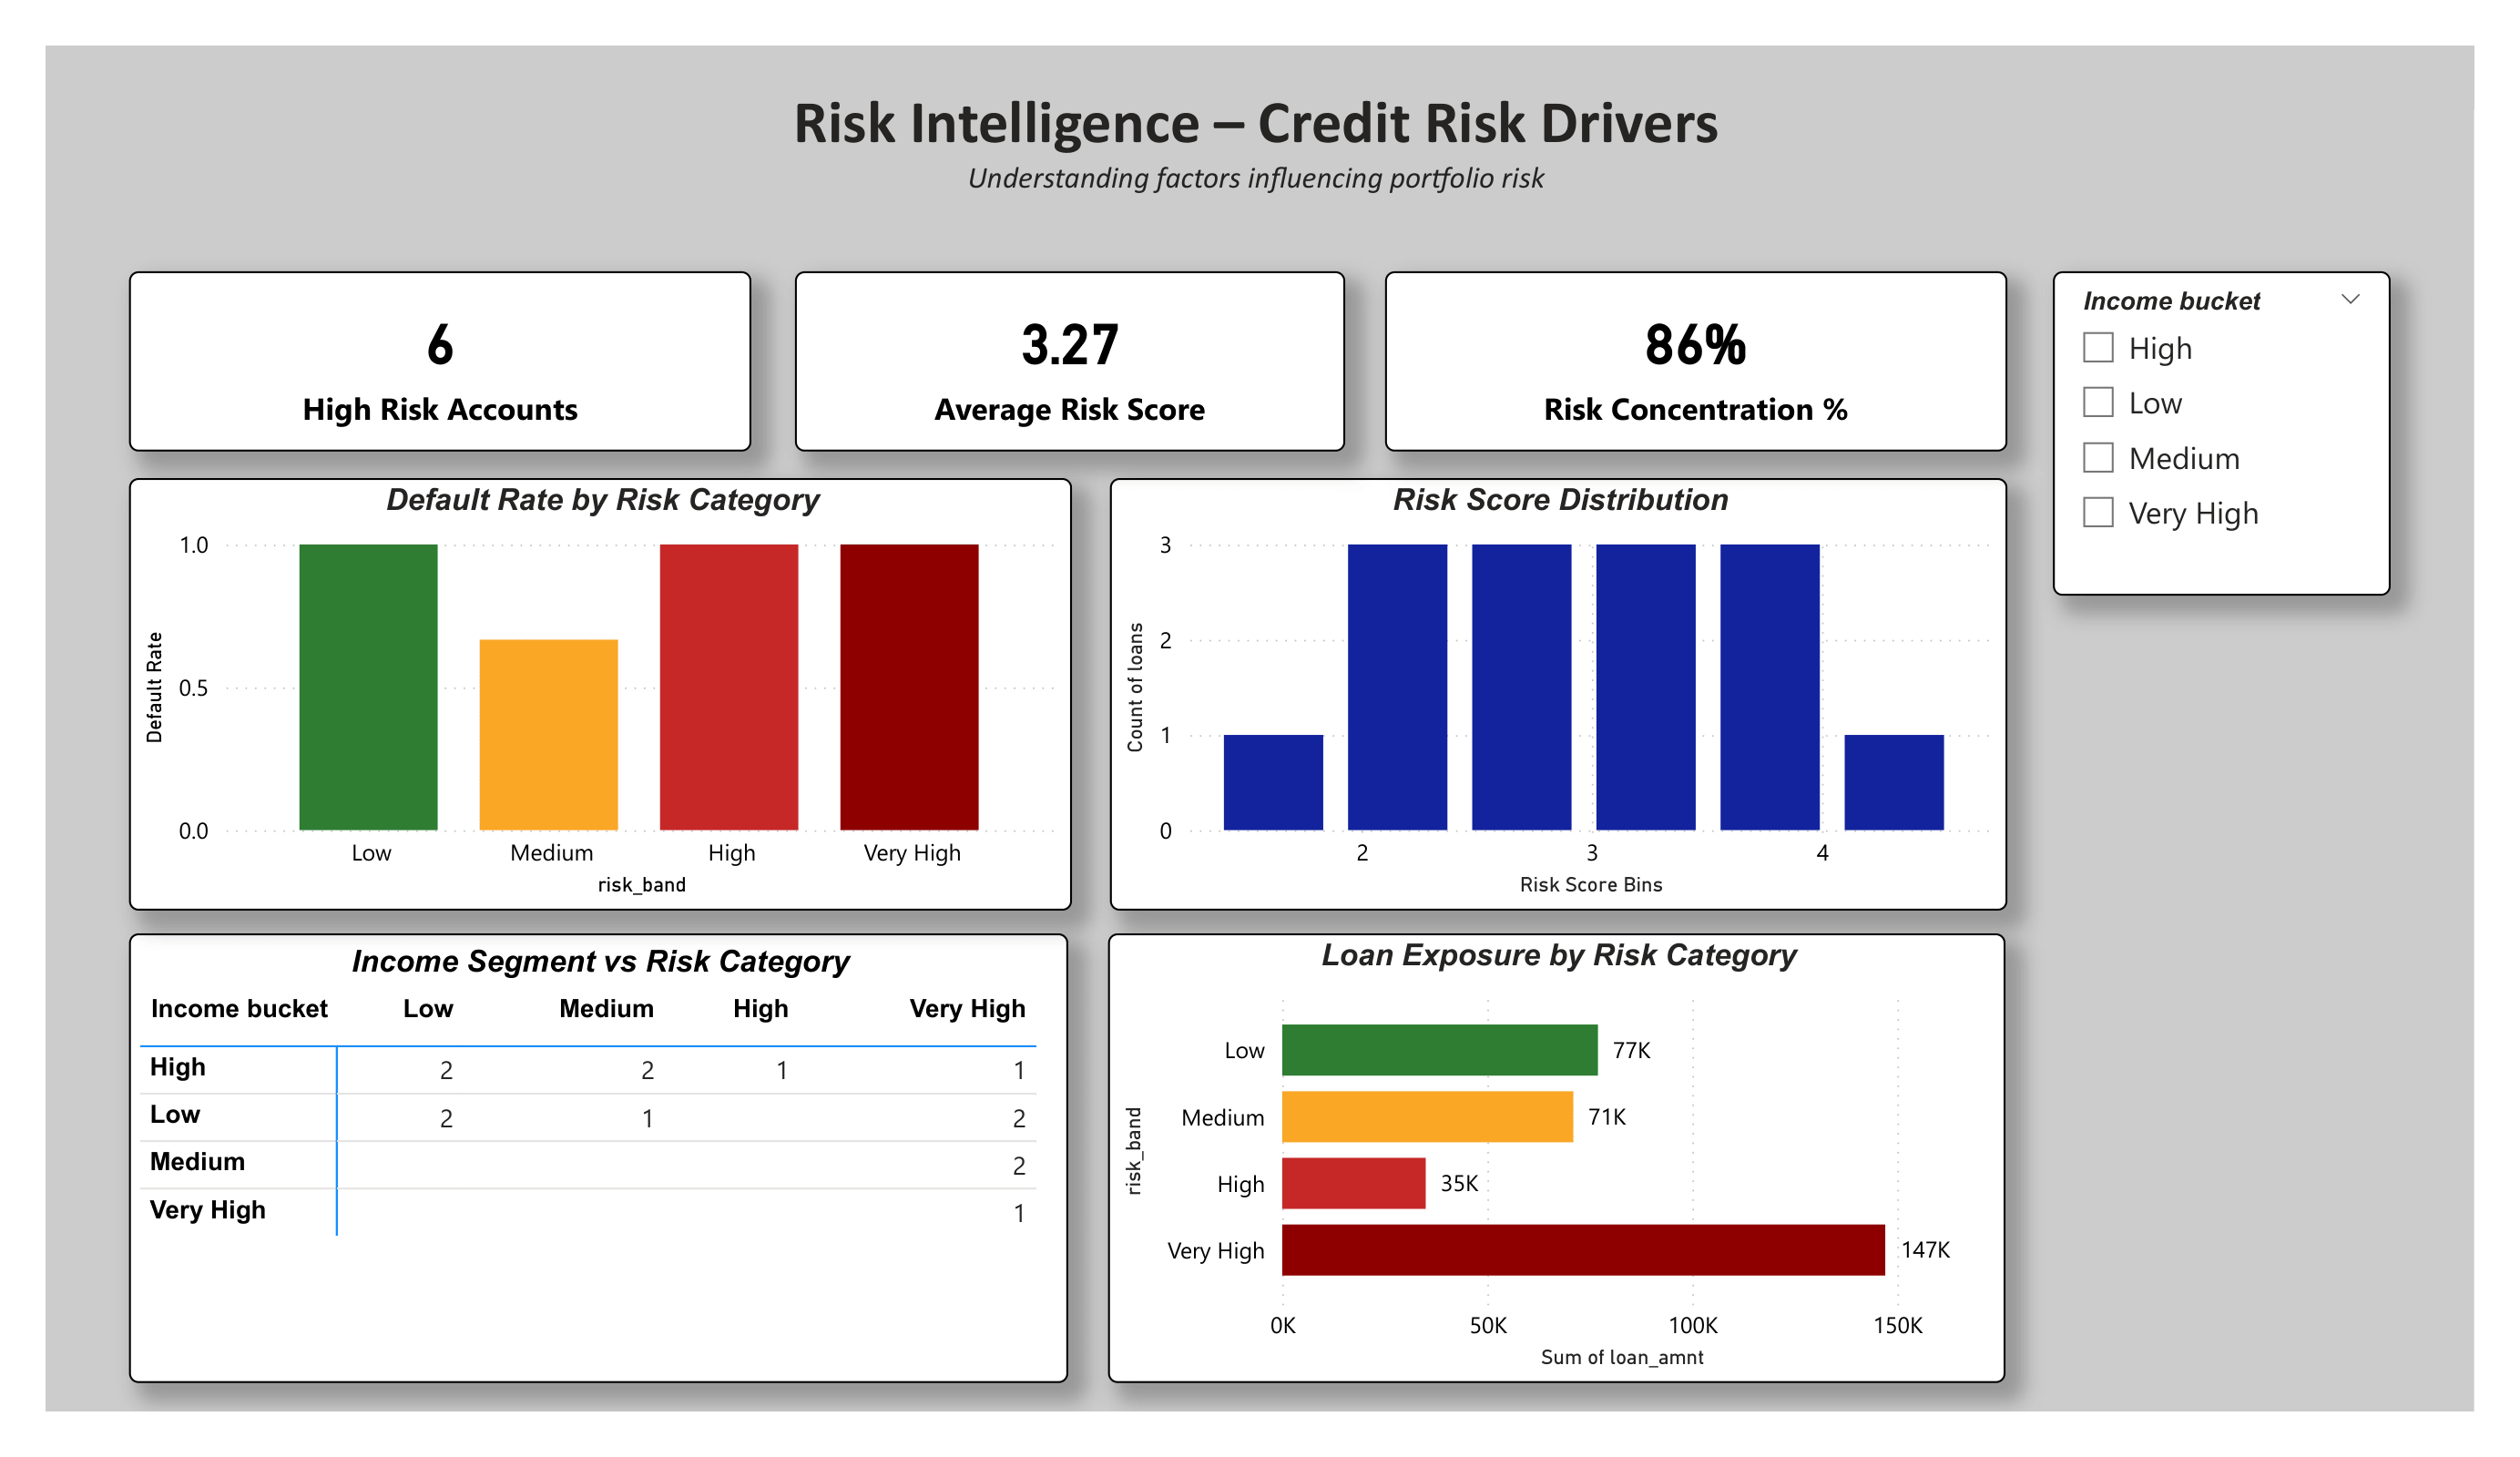

Layout of this report page (visuals, bound fields, positions):
{"tool":"powerbi","page":{"name":"Risk Intelligence","canvas":[1280,720],"ordinal":1},"visuals":[{"type":"pivotTable","title":"Income Segment vs Risk Category","fields":{"Rows":["risk_data_mart bnpl_risk_featured.Income bucket"],"Columns":["RiskBandTable.risk_band"],"Values":["CountNonNull(risk_data_mart bnpl_risk_featured.loan_amnt)"]},"box":[43.9,467.9,495.4,237.4],"z":0},{"type":"clusteredColumnChart","title":"Risk Score Distribution","fields":{"Category":["risk_data_mart bnpl_risk_featured.risk_score (bins)"],"Y":["CountNonNull(risk_data_mart bnpl_risk_featured.loan_amnt)"]},"box":[560.5,228.2,473.2,228.2],"z":1000},{"type":"textbox","box":[30,16.4,1216.1,84.6],"z":2000},{"type":"card","fields":{"Values":["risk_data_mart bnpl_risk_featured.Average Risk Score"]},"box":[395.1,119.5,289.4,95],"z":3000},{"type":"card","fields":{"Values":["risk_data_mart bnpl_risk_featured.High Risk Accounts"]},"box":[44.4,119.5,327.7,95],"z":4000},{"type":"card","fields":{"Values":["risk_data_mart bnpl_risk_featured.Risk Concentration %"]},"box":[706,119.5,327.7,95],"z":5000},{"type":"columnChart","title":"Default Rate by Risk Category","fields":{"Category":["RiskBandTable.risk_band"],"Y":["risk_data_mart bnpl_risk_featured.Default Rate by Risk Band"]},"box":[44.4,228.2,496.2,228.2],"z":6000},{"type":"slicer","title":"Income Bucket","fields":{"Values":["risk_data_mart bnpl_risk_featured.Income bucket"]},"box":[1058,119.4,178.4,170.2],"z":7000},{"type":"clusteredBarChart","title":"Loan Exposure by Risk Category","fields":{"Category":["RiskBandTable.risk_band"],"Y":["Sum(risk_data_mart bnpl_risk_featured.loan_amnt)"]},"box":[559.9,467.9,473.4,237.4],"z":8000}]}

Visuals, with their boxes on the page's 1280x720 design canvas (x1, y1, x2, y2). These are canvas units, not pixel positions in the 2520x1457 screenshot, which may show the page scaled, cropped or inside an application window:
"Income Segment vs Risk Category" pivotTable: left=44, top=468, right=539, bottom=705
"Risk Score Distribution" clusteredColumnChart: left=560, top=228, right=1034, bottom=456
textbox: left=30, top=16, right=1246, bottom=101
card - risk_data_mart bnpl_risk_featured.Average Risk Score: left=395, top=120, right=684, bottom=214
card - risk_data_mart bnpl_risk_featured.High Risk Accounts: left=44, top=120, right=372, bottom=214
card - risk_data_mart bnpl_risk_featured.Risk Concentration %: left=706, top=120, right=1034, bottom=214
"Default Rate by Risk Category" columnChart: left=44, top=228, right=541, bottom=456
"Income Bucket" slicer: left=1058, top=119, right=1236, bottom=290
"Loan Exposure by Risk Category" clusteredBarChart: left=560, top=468, right=1033, bottom=705
